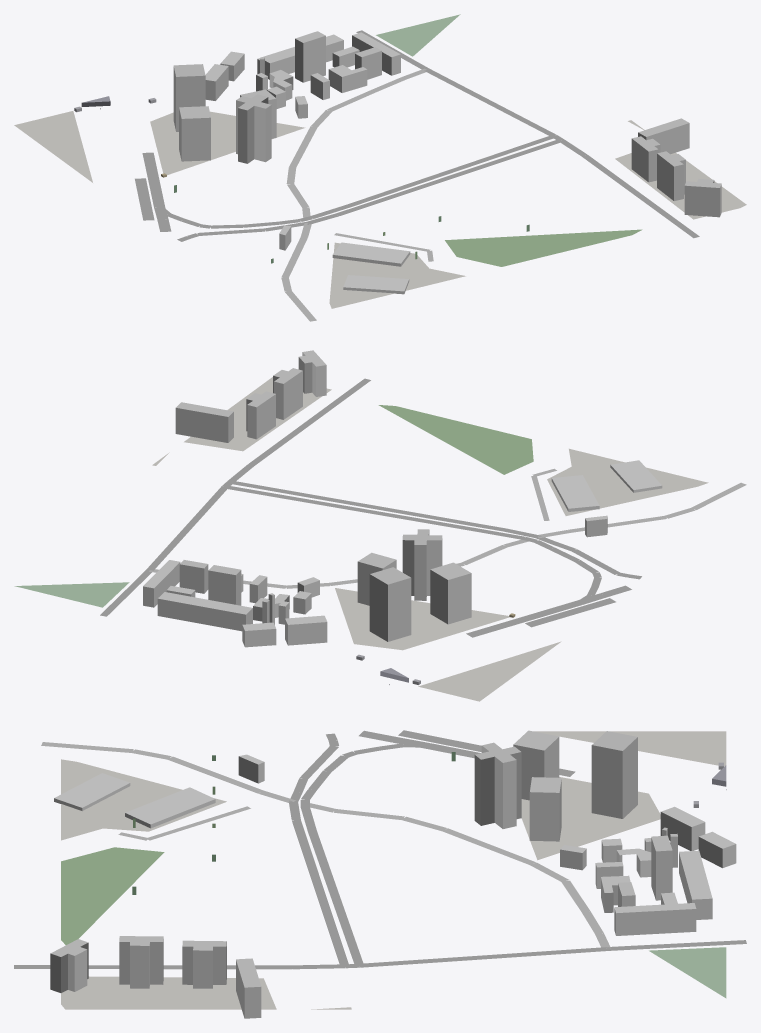
3 renders of one model, top to bottom at view 1: azimuth 30°, elevation 25°; view 2: azimuth 150°, elevation 25°; view 3: azimuth 270°, elevation 25°, orthographic. The views are drawn at different scales.
Size of the model in its own units: 517 by 62.68 by 551.
